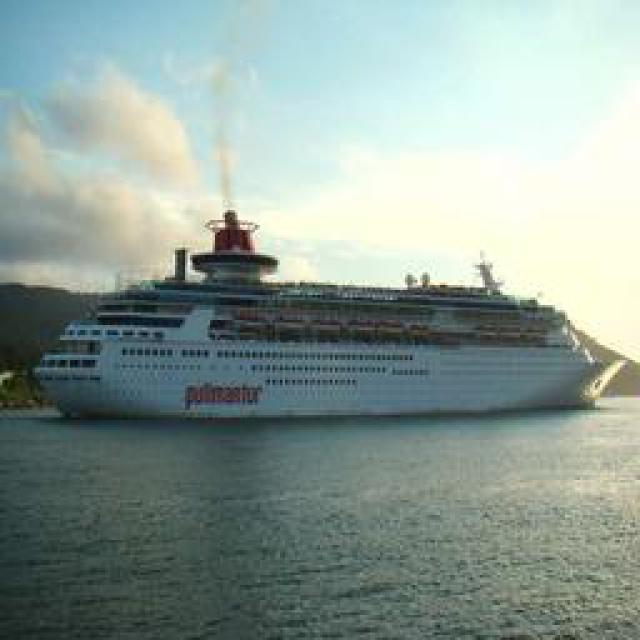Ship: (17, 260, 627, 423)
